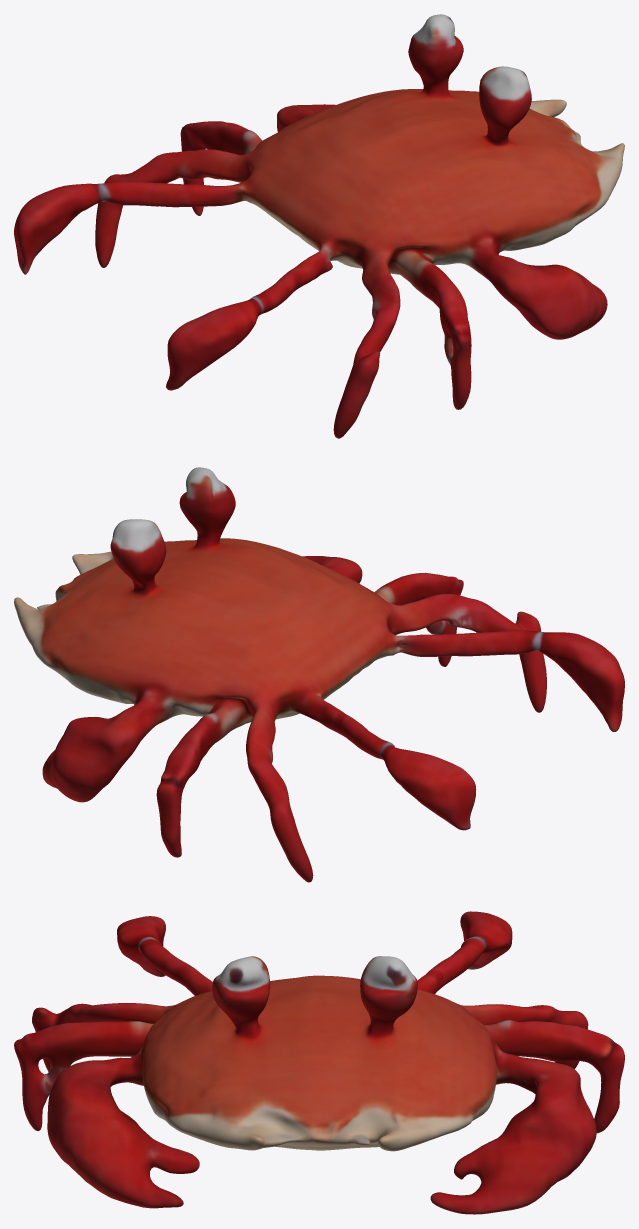
Rendered from e37a52bfa96f_low_poly_cute_carto.fbx.
The picture shows the model from 3 angles, top to bottom: view 1: azimuth 30°, elevation 25°; view 2: azimuth 150°, elevation 25°; view 3: azimuth 270°, elevation 25°; orthographic projection. The views are drawn at different scales.
Visible parts, largest first — view 1: high_poly; view 2: high_poly; view 3: high_poly.
Part boxes in pixels (x1,y1,x2,y2): high_poly: (14,14,624,438); high_poly: (14,467,624,882); high_poly: (14,911,624,1214).
Size of the model in its own units: 100 by 46.38 by 99.
